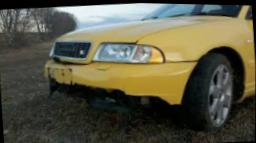Bumper: (43, 74, 181, 121), (87, 59, 120, 77)
